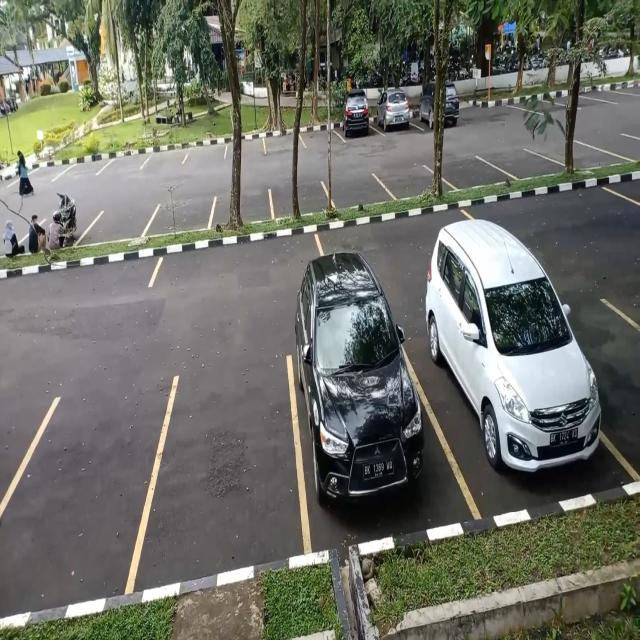empty: (3, 392, 165, 616), (146, 375, 298, 584), (149, 198, 219, 233), (86, 208, 154, 244), (444, 154, 507, 190), (325, 173, 391, 207), (212, 194, 274, 228), (384, 166, 444, 201), (500, 150, 563, 182), (270, 182, 327, 214), (302, 117, 340, 152), (264, 121, 304, 154), (225, 128, 265, 160), (97, 151, 147, 174), (605, 132, 640, 164), (141, 145, 189, 168), (182, 140, 229, 161)
occupied: (428, 301, 604, 512), (295, 337, 430, 538), (338, 102, 376, 141), (376, 94, 412, 135)
